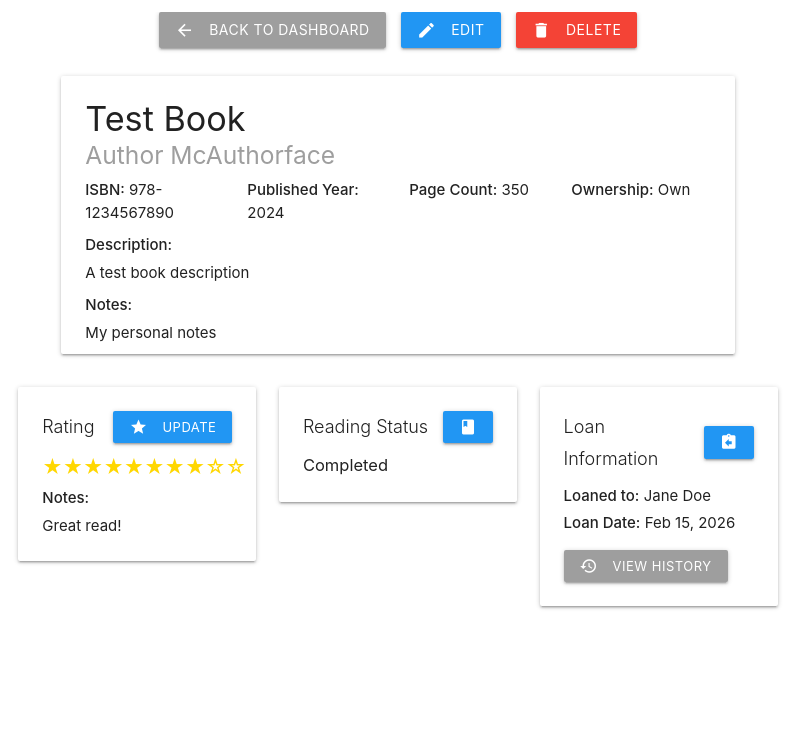
Test: BookDetails Page › Integration Tests › Edit Mode › should enable edit mode when Edit button is clicked
The width and height of the screenshot is (797, 732).
Check: the heading "Test Book" is shown, box [85,98,246,138]
Click the button "Edit" at (451, 30), box [401,12,500,48]
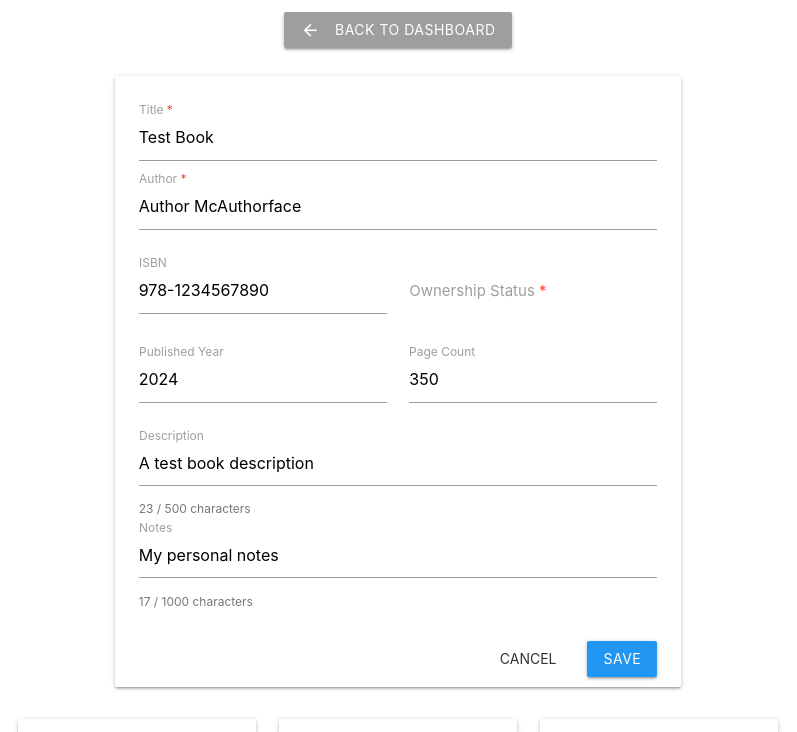
Check: the field labelled "Title *" is shown, box [139,114,657,160]
Check: the field labelled "Author *" is shown, box [139,184,657,230]
